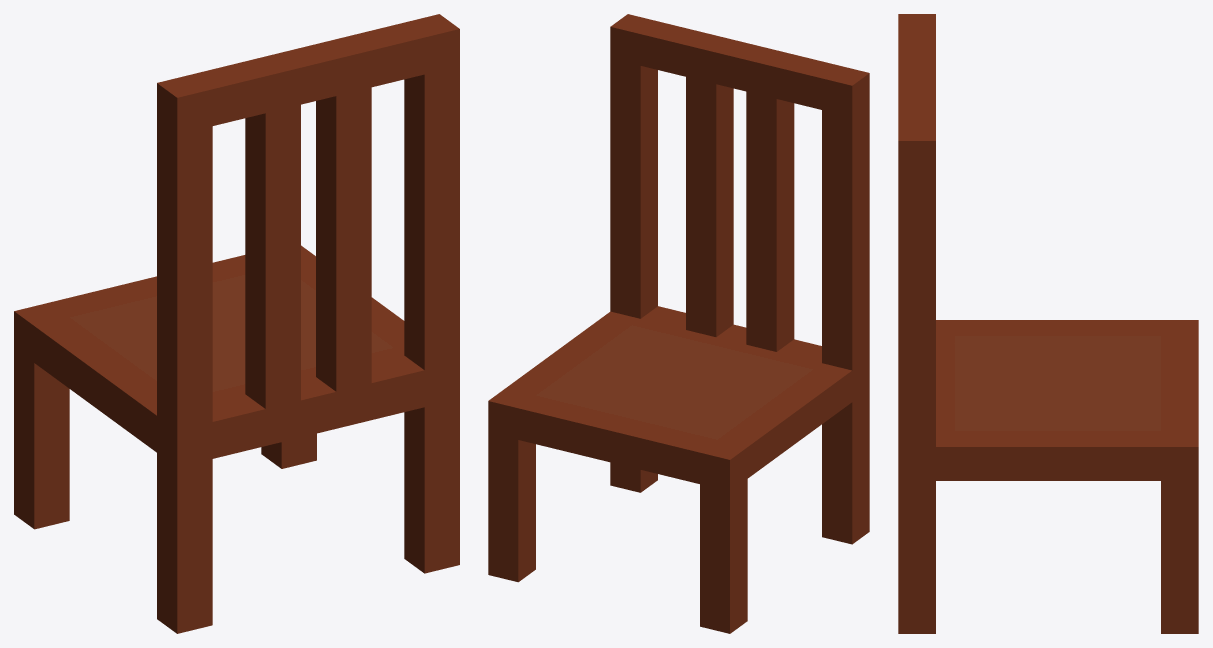
The model's file is chair.gltf.
3 renders of one model, left to right at view 1: azimuth 30°, elevation 25°; view 2: azimuth 150°, elevation 25°; view 3: azimuth 270°, elevation 25°, orthographic. The views are drawn at different scales.
Visible parts, largest first — view 1: cuboid; view 2: cuboid; view 3: cuboid.
Part boxes in pixels (left/top/right/bottom): cuboid: left=14, top=14, right=459, bottom=633; cuboid: left=488, top=14, right=869, bottom=633; cuboid: left=898, top=14, right=1198, bottom=633.
Bounding box in the file's own units: 1 × 1.81 × 1.
Materials: 1 (1 with a texture image).
